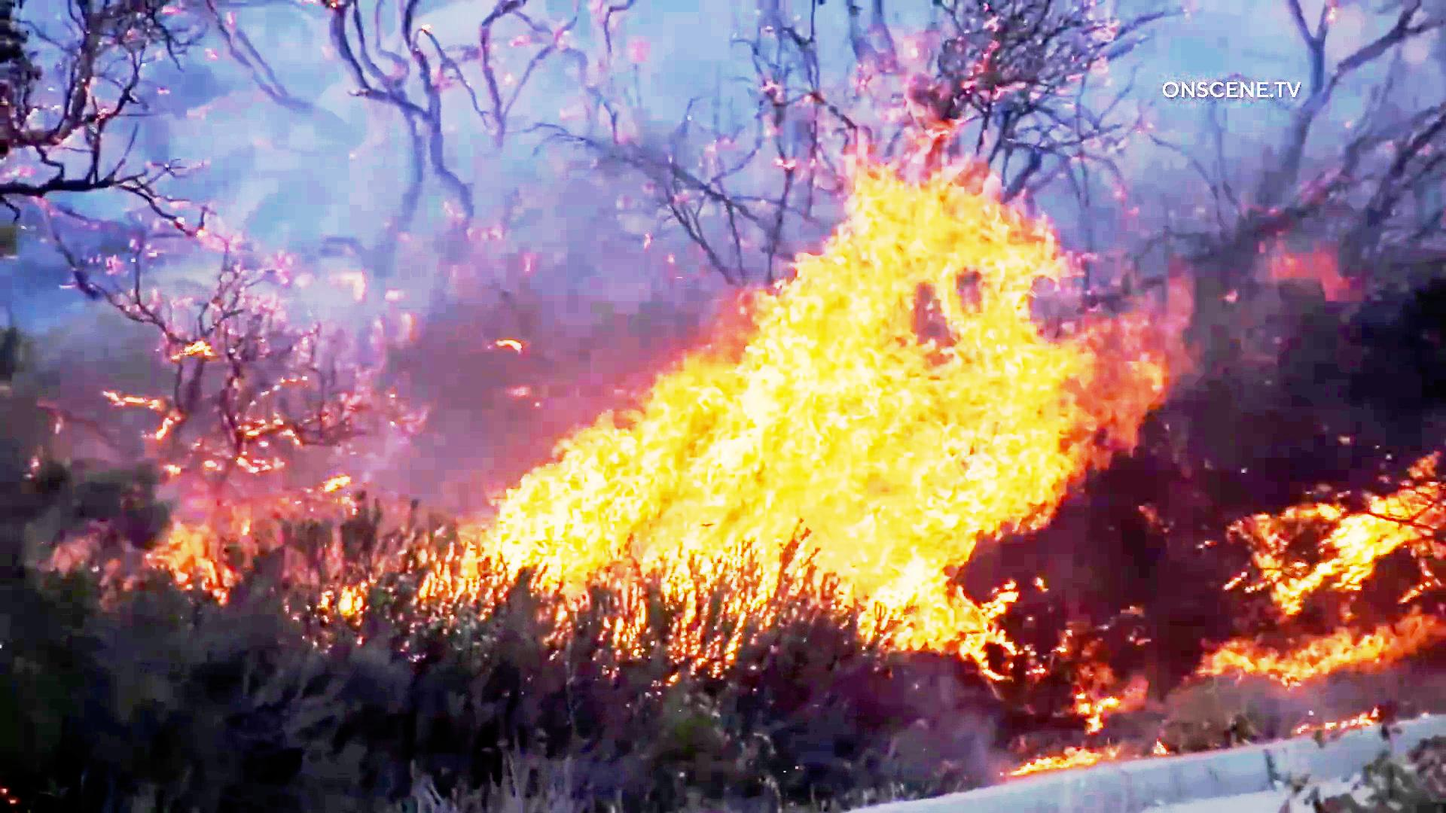fire: (460, 177, 1213, 633)
